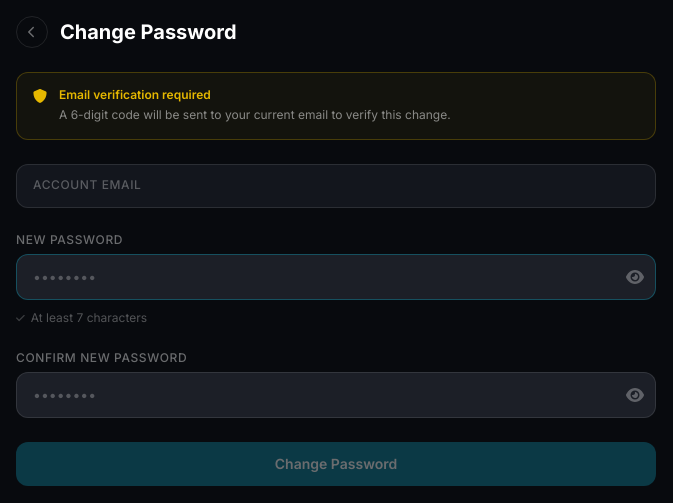
ProfileConfigurationChangePasswordPage — request step › disables submission until the new password is long enough and confirmed
Check: the button "Change Password" is disabled, box [16,442,656,486]
In the 1st password field with placeholder "••••••••": x=336, y=276 [16,254,656,300], type "longenough"
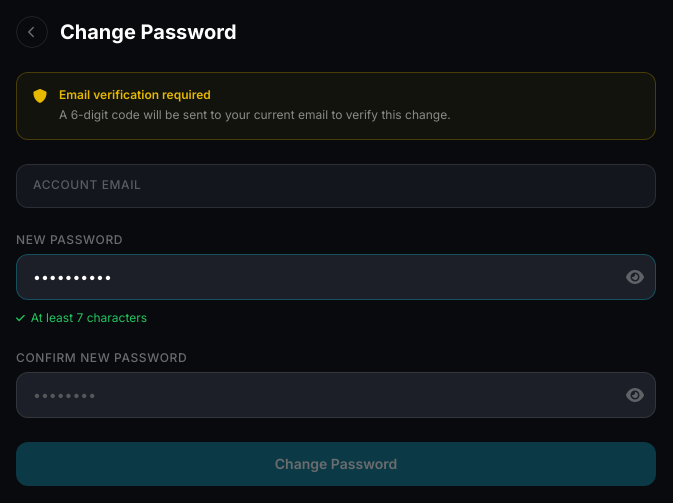
In the password field with placeholder "••••••••": x=336, y=394 [16,372,656,418], type "different"
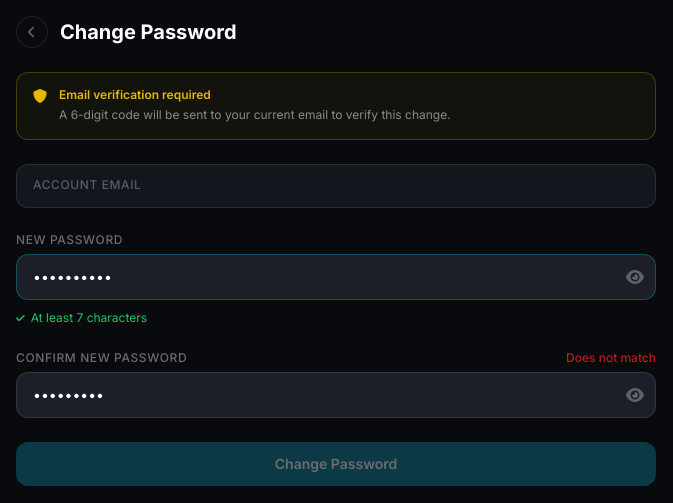
Check: the button "Change Password" is disabled, box [16,442,656,486]
Check: the text "Does not match" is shown, box [566,350,656,366]
In the password field with placeholder "••••••••" below "Confirm New Password": x=336, y=394 [16,372,656,418], type "longenough"
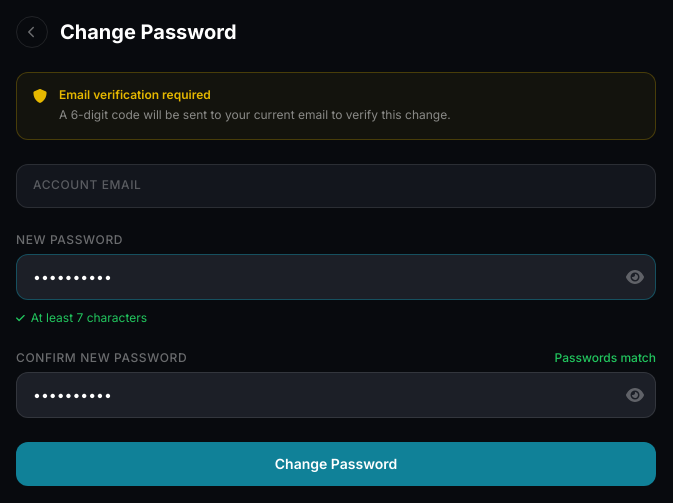
Check: the button "Change Password" is enabled, box [16,442,656,486]
